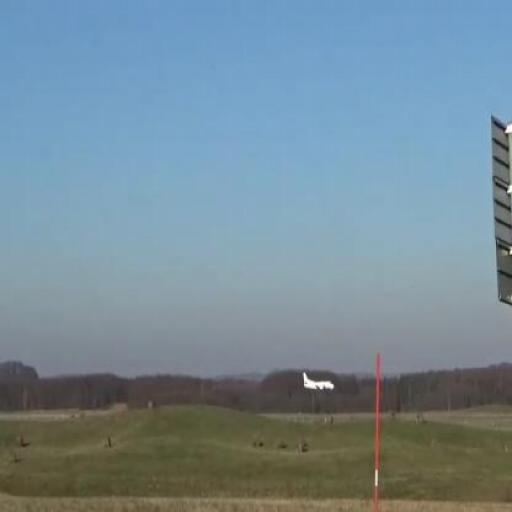aircraft: (302, 372, 335, 391)
